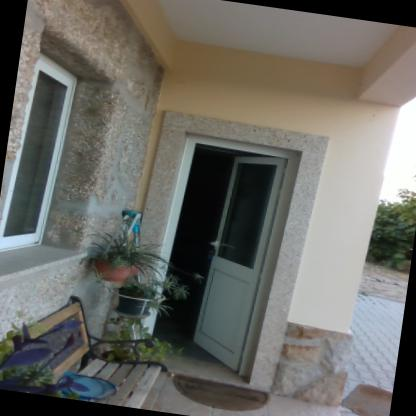semi: (130, 121, 314, 391)
